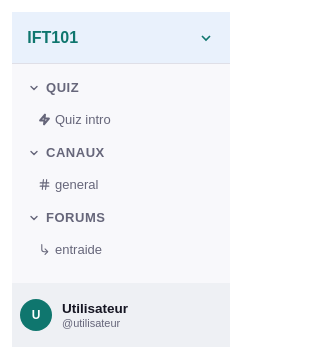
Test: CourseMenu › menu contextuel du sélecteur › Échap ferme le menu contextuel
Step 1. Right-click the button "IFT101" → {"x": 121, "y": 38}, box [12, 12, 230, 63]
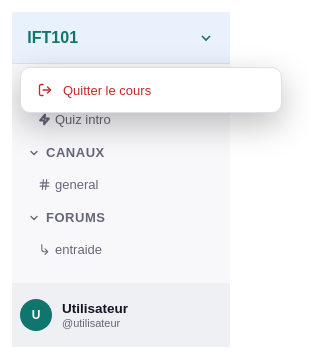
Step 2. Press Escape
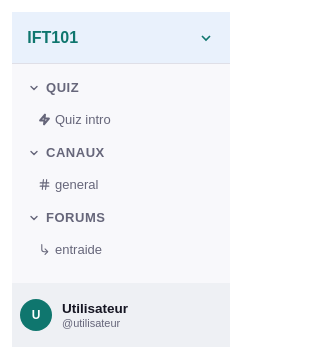
Result: the menu is gone
